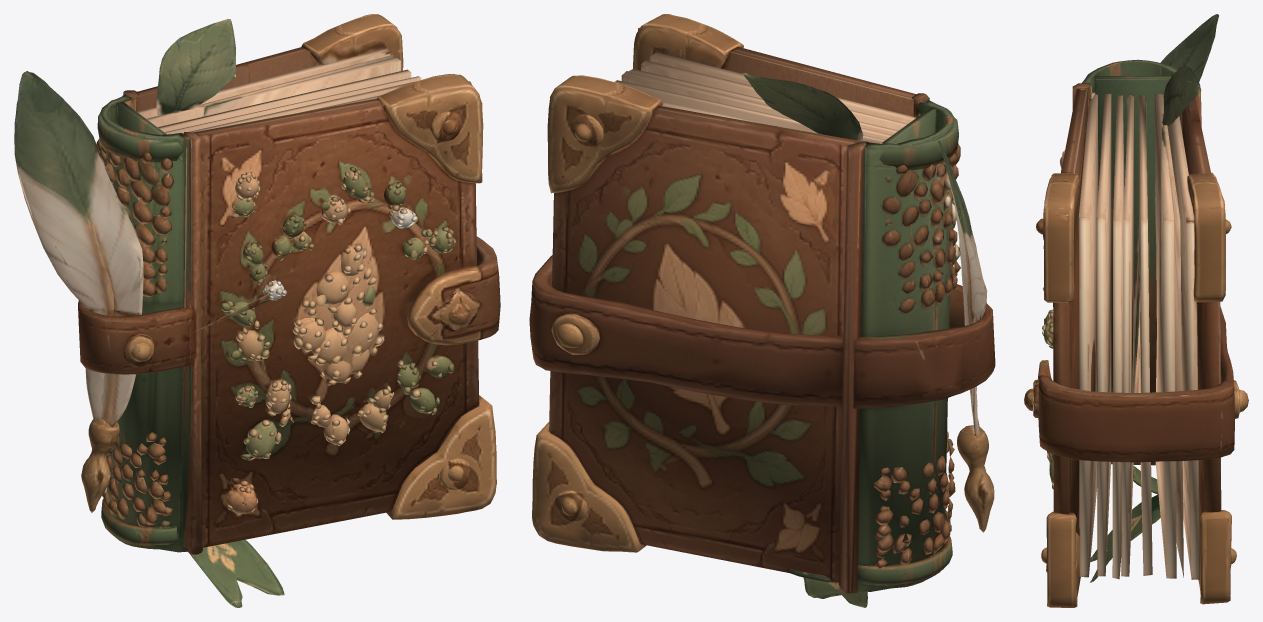
File: Meshy_AI_Whispering_Leaf_Journ_1005095038_texture.glb
3 renders of one model, left to right at view 1: azimuth 30°, elevation 25°; view 2: azimuth 150°, elevation 25°; view 3: azimuth 270°, elevation 25°, orthographic. The views are drawn at different scales.
Size of the model in its own units: 0.8228 by 1 by 0.4133.
Materials: 1 (1 with a texture image).
